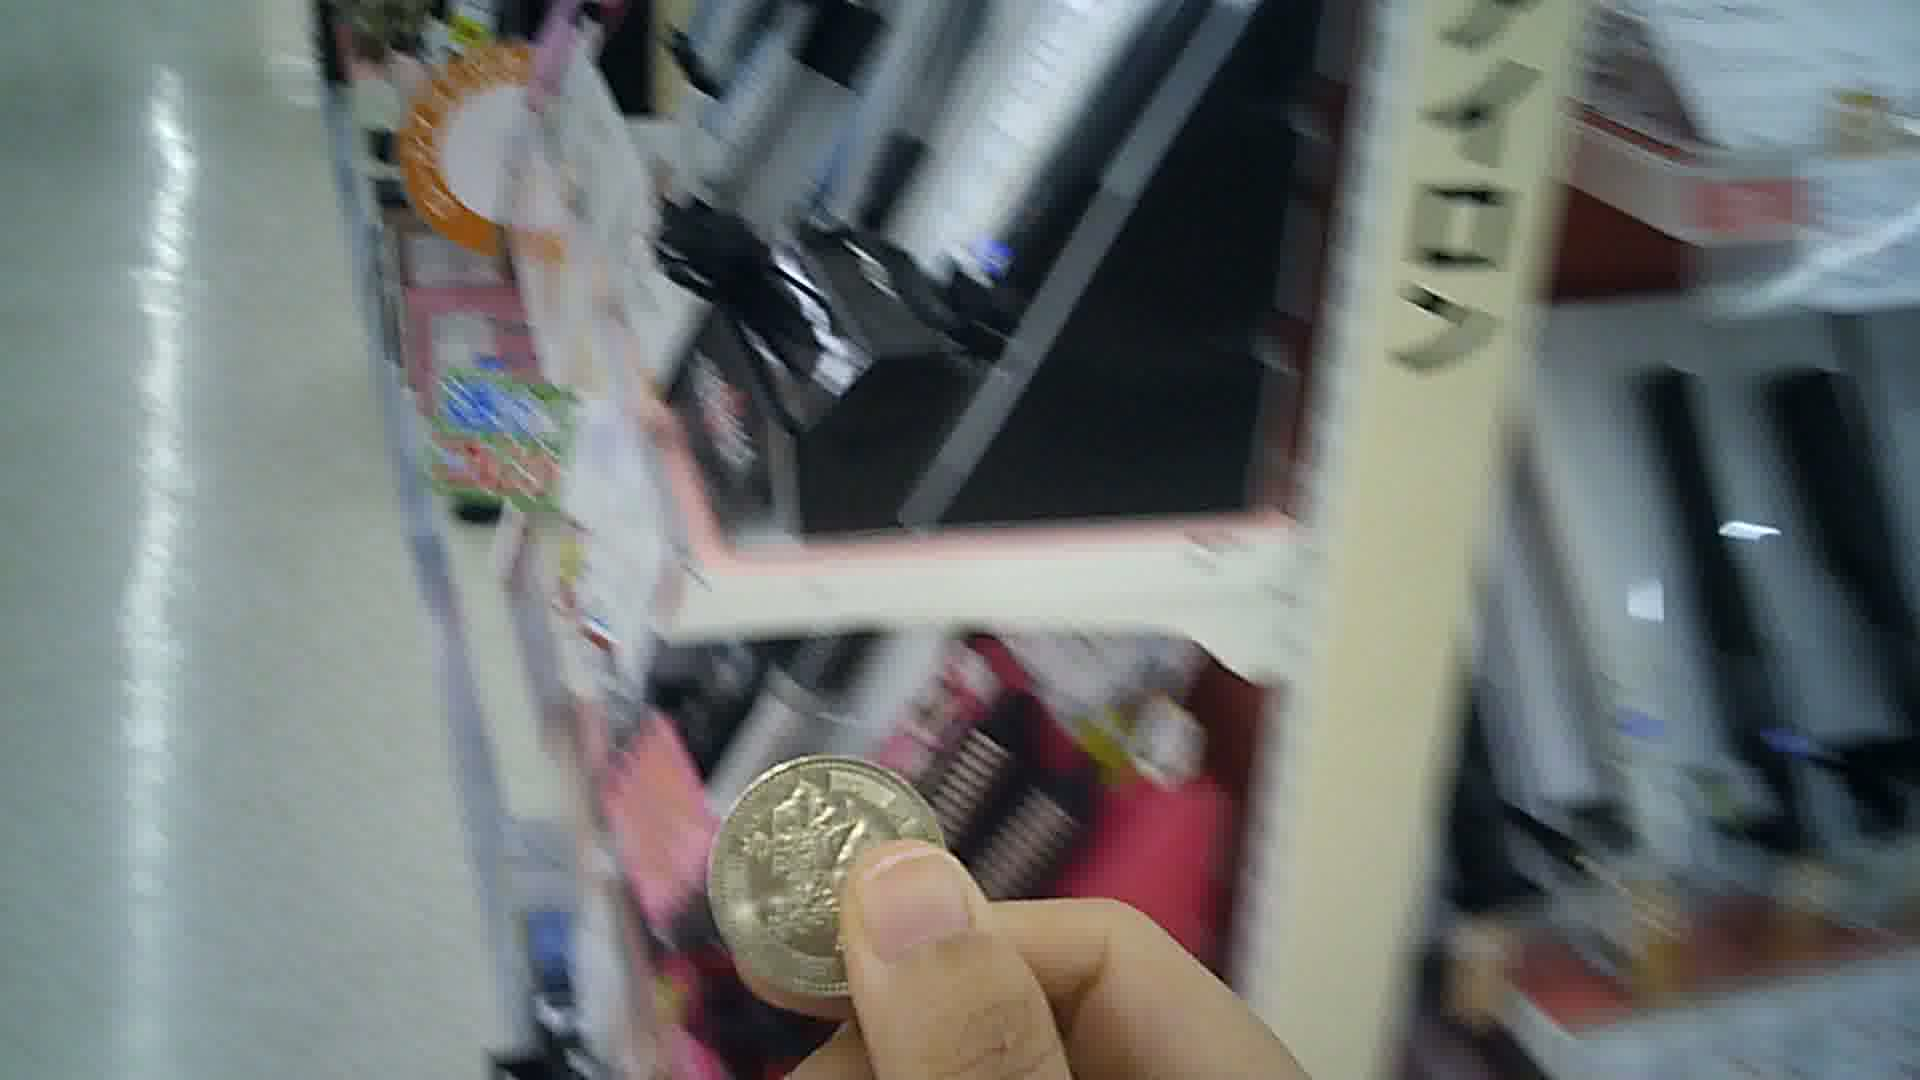500 Yen: (705, 761, 957, 997)
